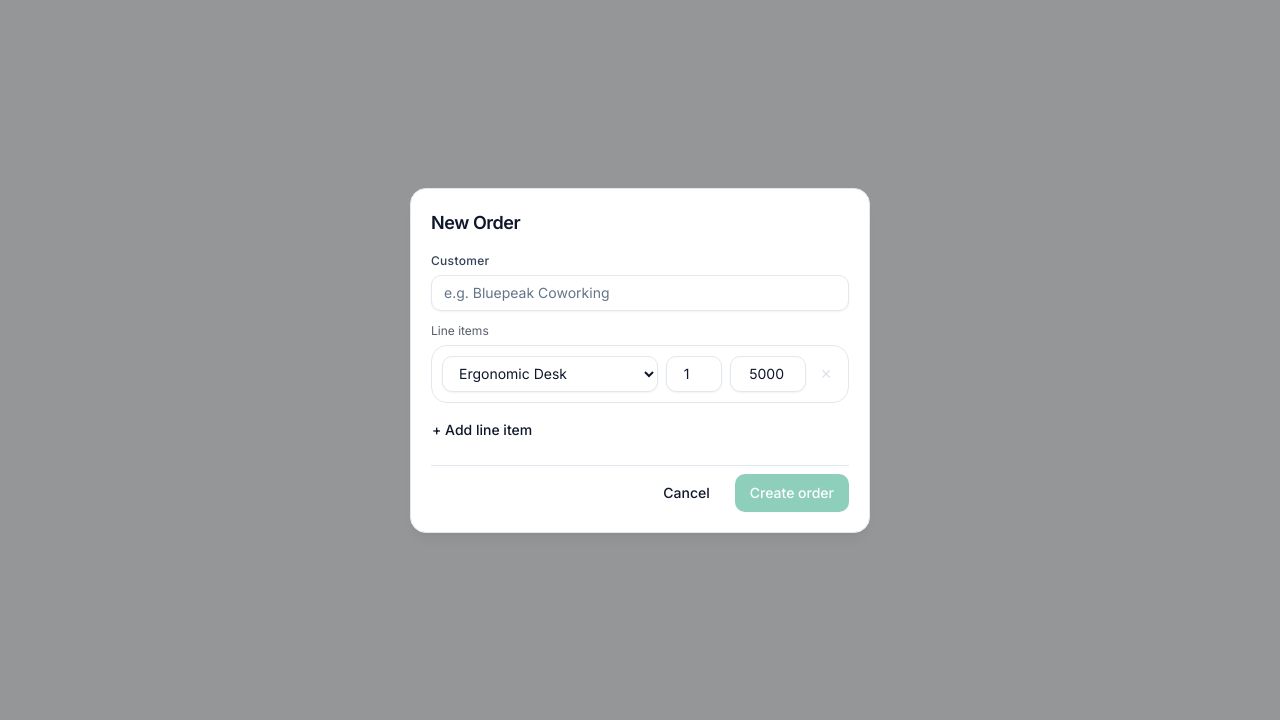
NewOrderDialog Component › TC-3.3: supports adding and removing line items dynamically
Step 1. Click the button "+ Add line item" → (482, 430), box [431, 410, 533, 448]
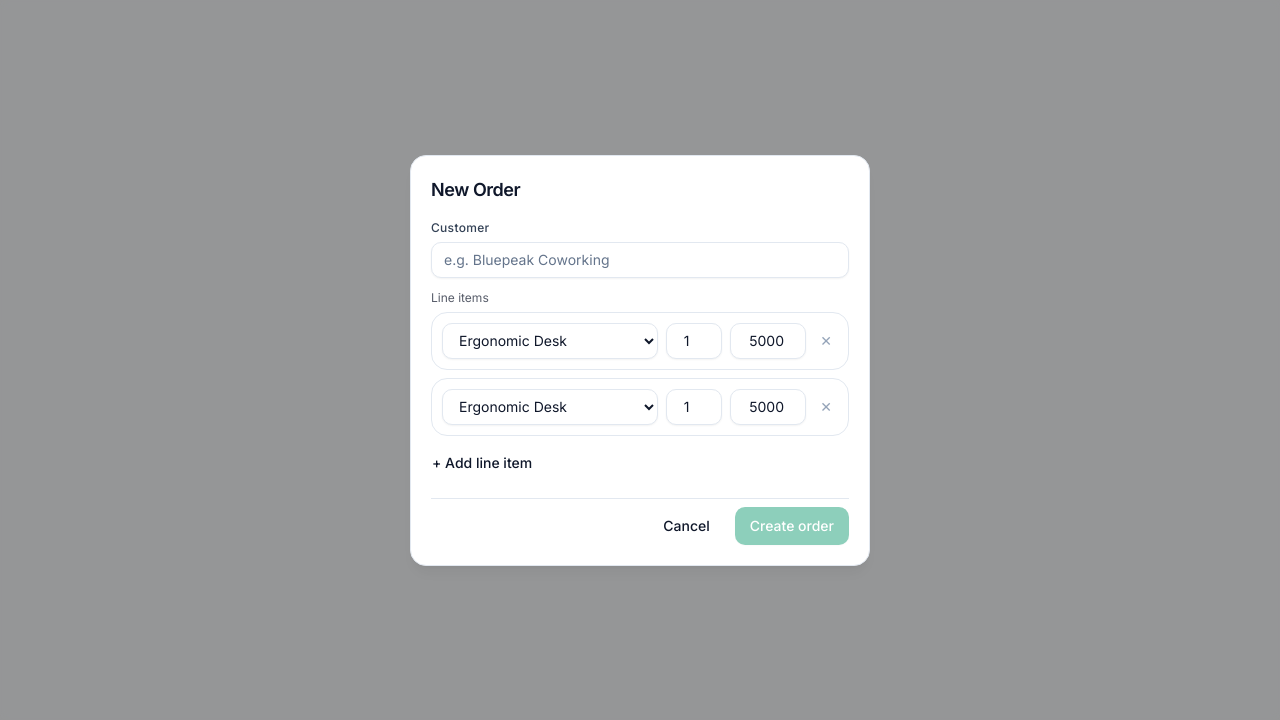
Expected: the number of buttons named "remove line item" is 2
# Click remove on the second line item
Step 2. Click the button named "remove line item" → (826, 406), box [814, 396, 838, 416]
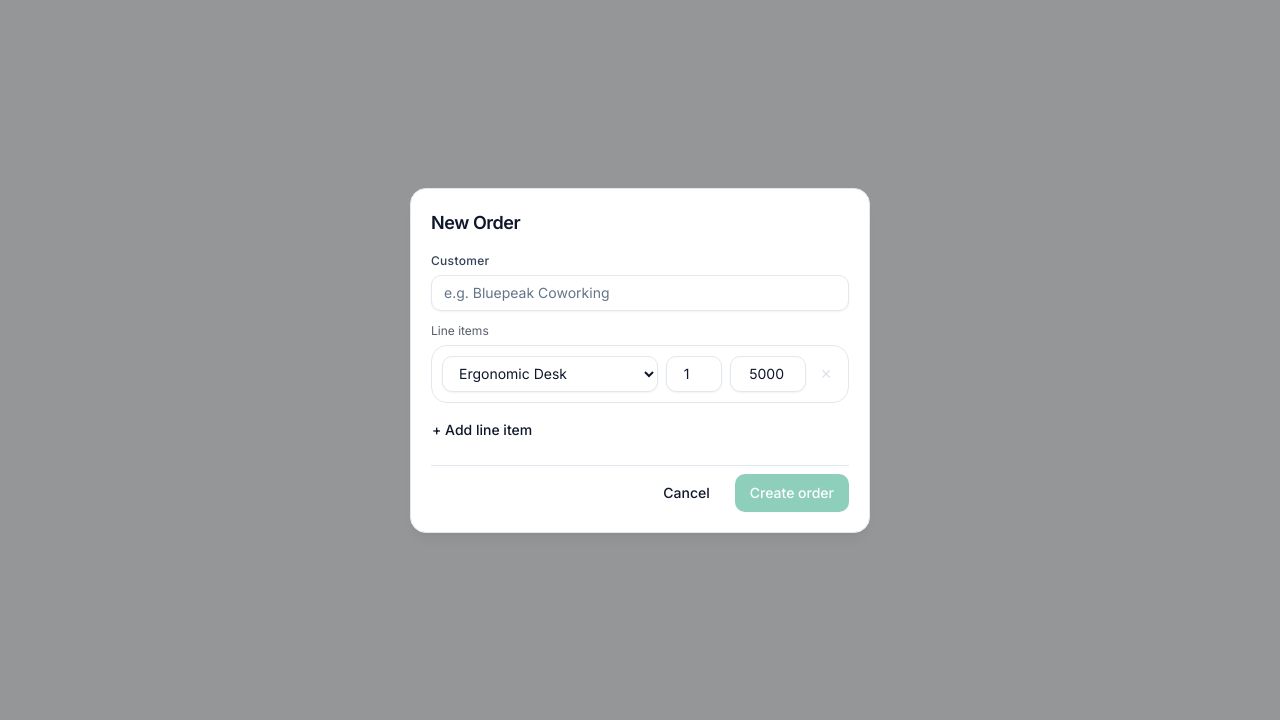
Expected: the number of buttons named "remove line item" is 1, [814, 364, 838, 384]
